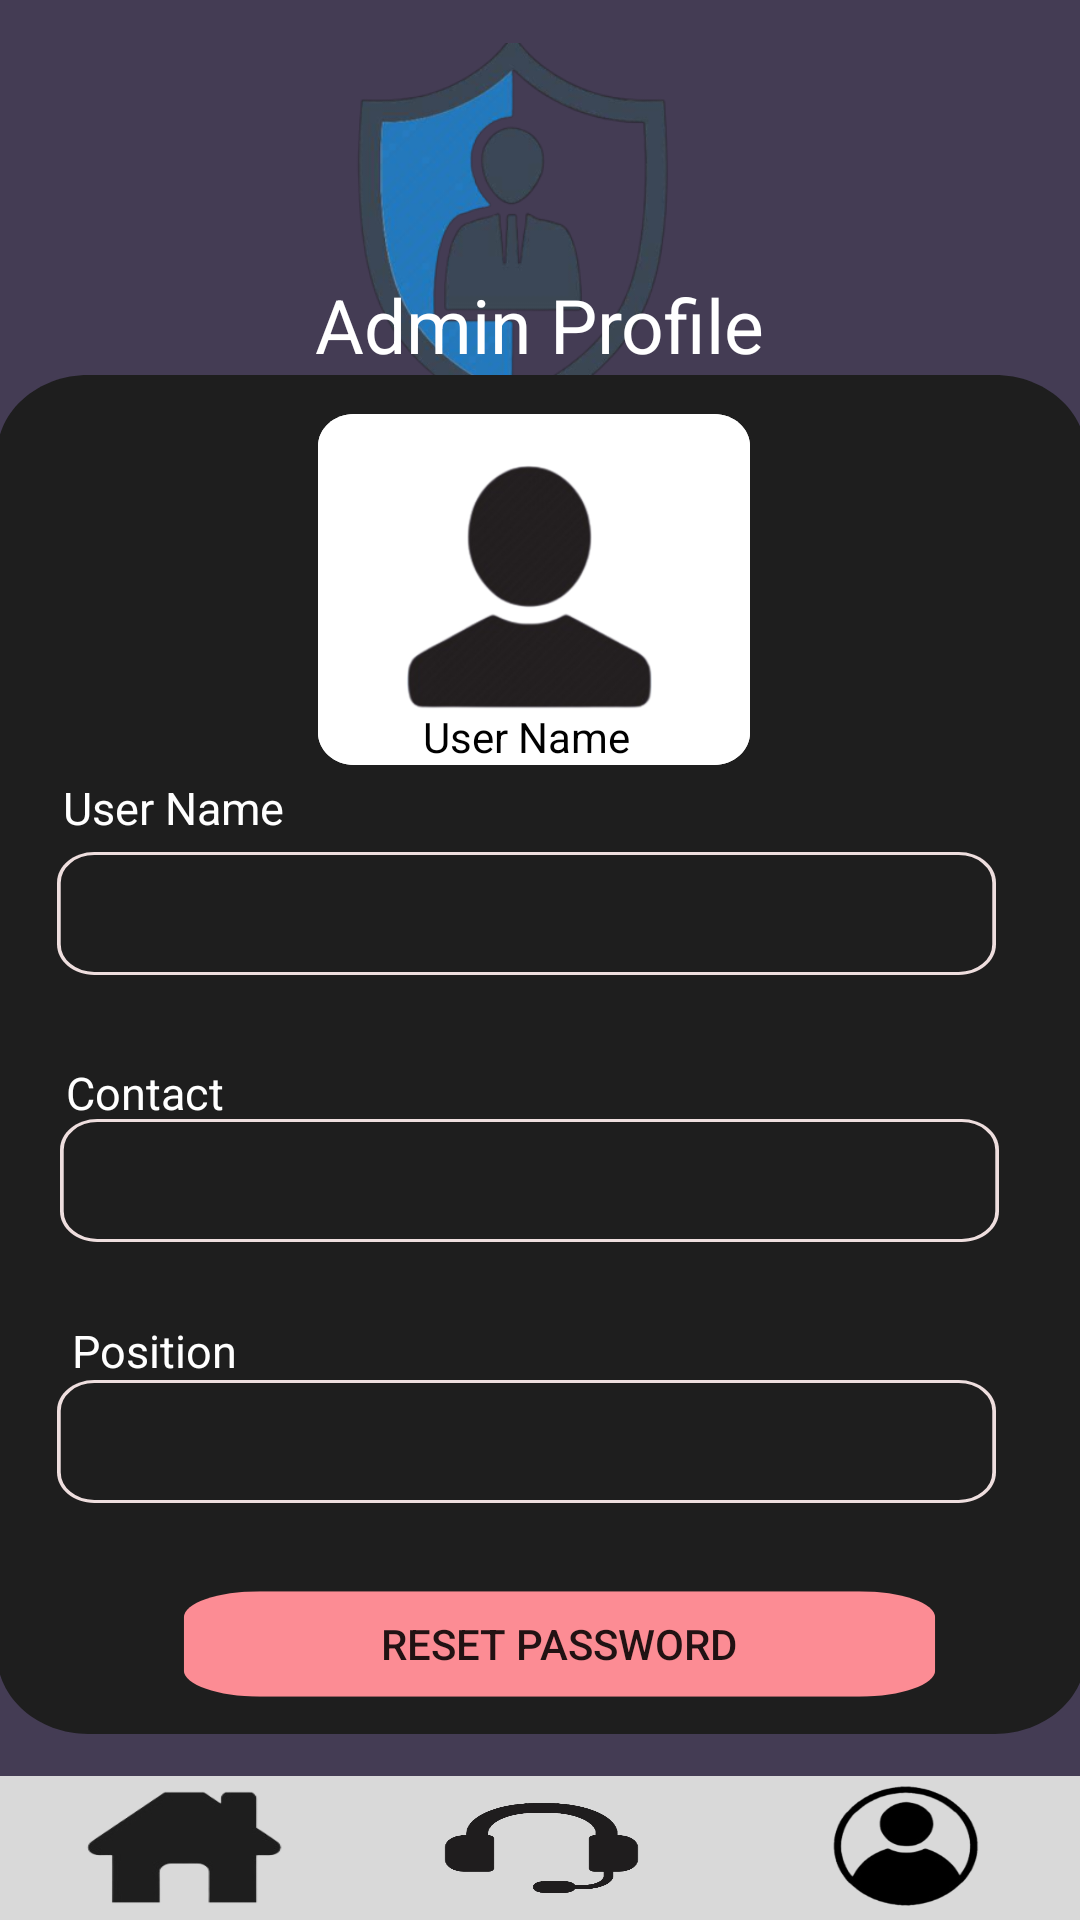

Named icons in this screenshot (1080 x 1920) and their bounding boxes, (x1, y1, x2, y2):
navigationfeedback: (445, 1803, 638, 1893)
